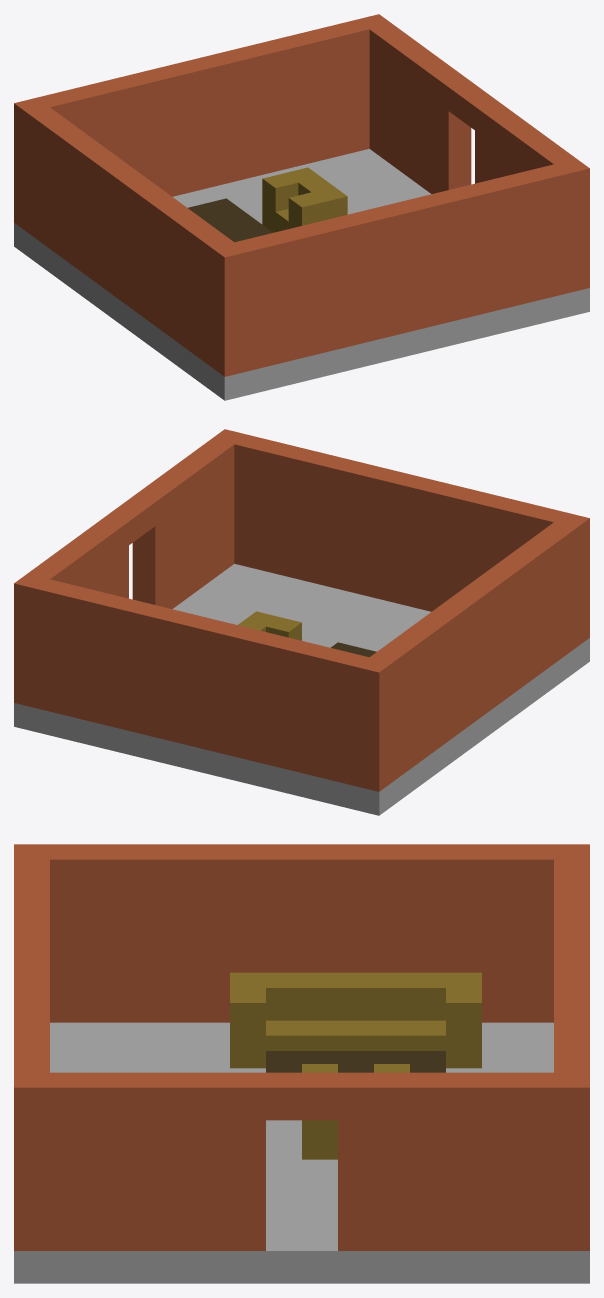
The model's file is towar-1.obj.
The picture shows the model from 3 angles, top to bottom: view 1: azimuth 30°, elevation 25°; view 2: azimuth 150°, elevation 25°; view 3: azimuth 270°, elevation 25°; orthographic projection. The views are drawn at different scales.
Visible parts, largest first — view 1: towar-1; view 2: towar-1; view 3: towar-1.
Boxes of the visible parts, x1,y1,x2,y2 form: towar-1: (14, 14, 589, 400); towar-1: (14, 429, 589, 815); towar-1: (14, 844, 589, 1283).
Size of the model in its own units: 16 by 6 by 16.
1 material, 1 textured.
